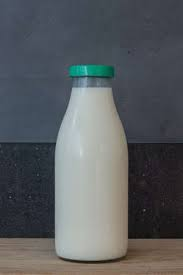milk: (58, 59, 135, 257)
